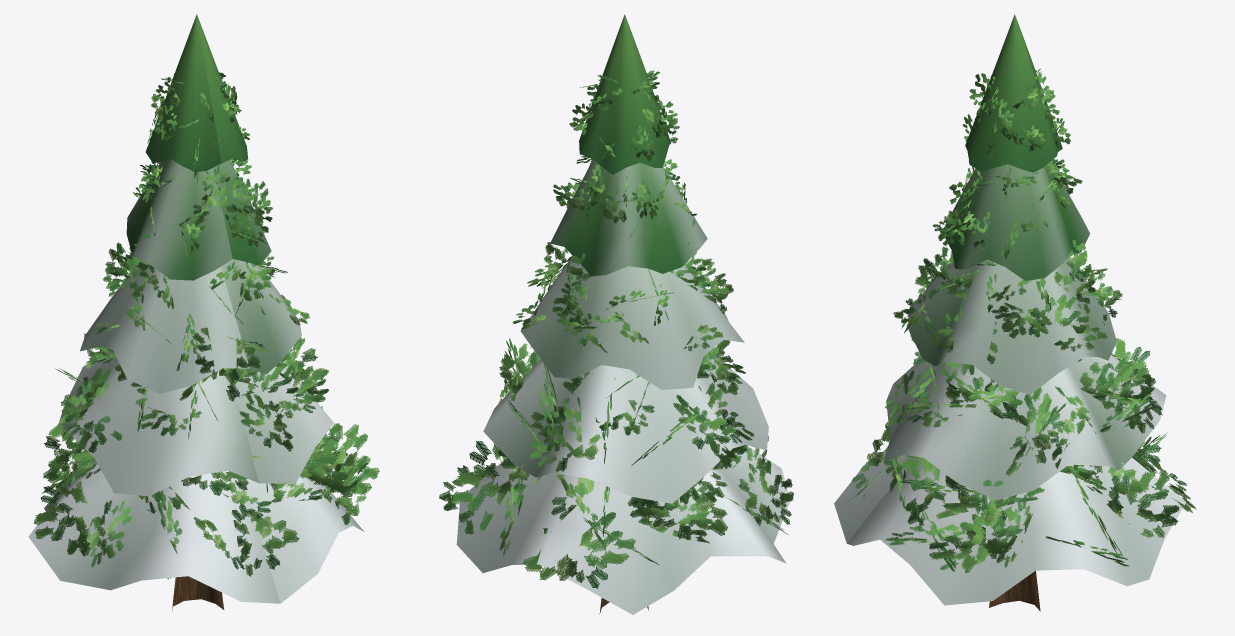
Rendered from tree_pine_snowy.glb.
3 renders of one model, left to right at view 1: azimuth 30°, elevation 25°; view 2: azimuth 150°, elevation 25°; view 3: azimuth 270°, elevation 25°, orthographic.
Parts seen in each view (by area): view 1: tree_pine, tree_pine_bark_Pine; view 2: tree_pine; view 3: tree_pine, tree_pine_bark_Pine.
Part boxes in pixels (bbox=[...]): tree_pine: bbox=[28, 14, 379, 603]; tree_pine_bark_Pine: bbox=[172, 576, 224, 610]; tree_pine: bbox=[439, 14, 793, 614]; tree_pine: bbox=[834, 14, 1196, 605]; tree_pine_bark_Pine: bbox=[989, 570, 1040, 611].
Size of the model in its own units: 6.58 by 11.48 by 6.73.
Materials: 3 (2 with a texture image).
